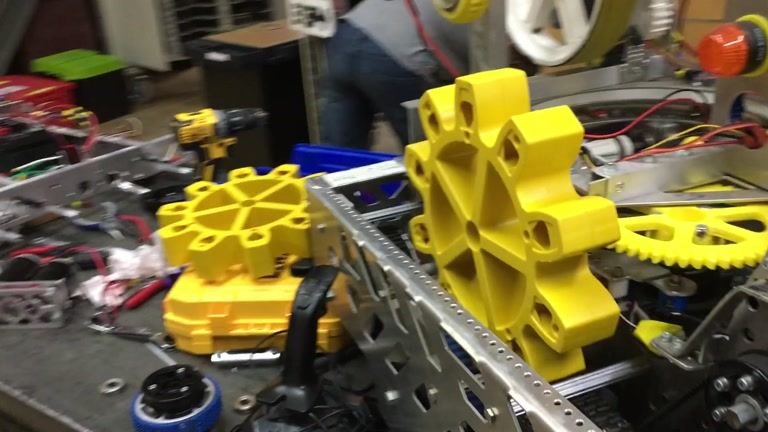gear: (404, 69, 620, 395), (155, 162, 336, 281)
